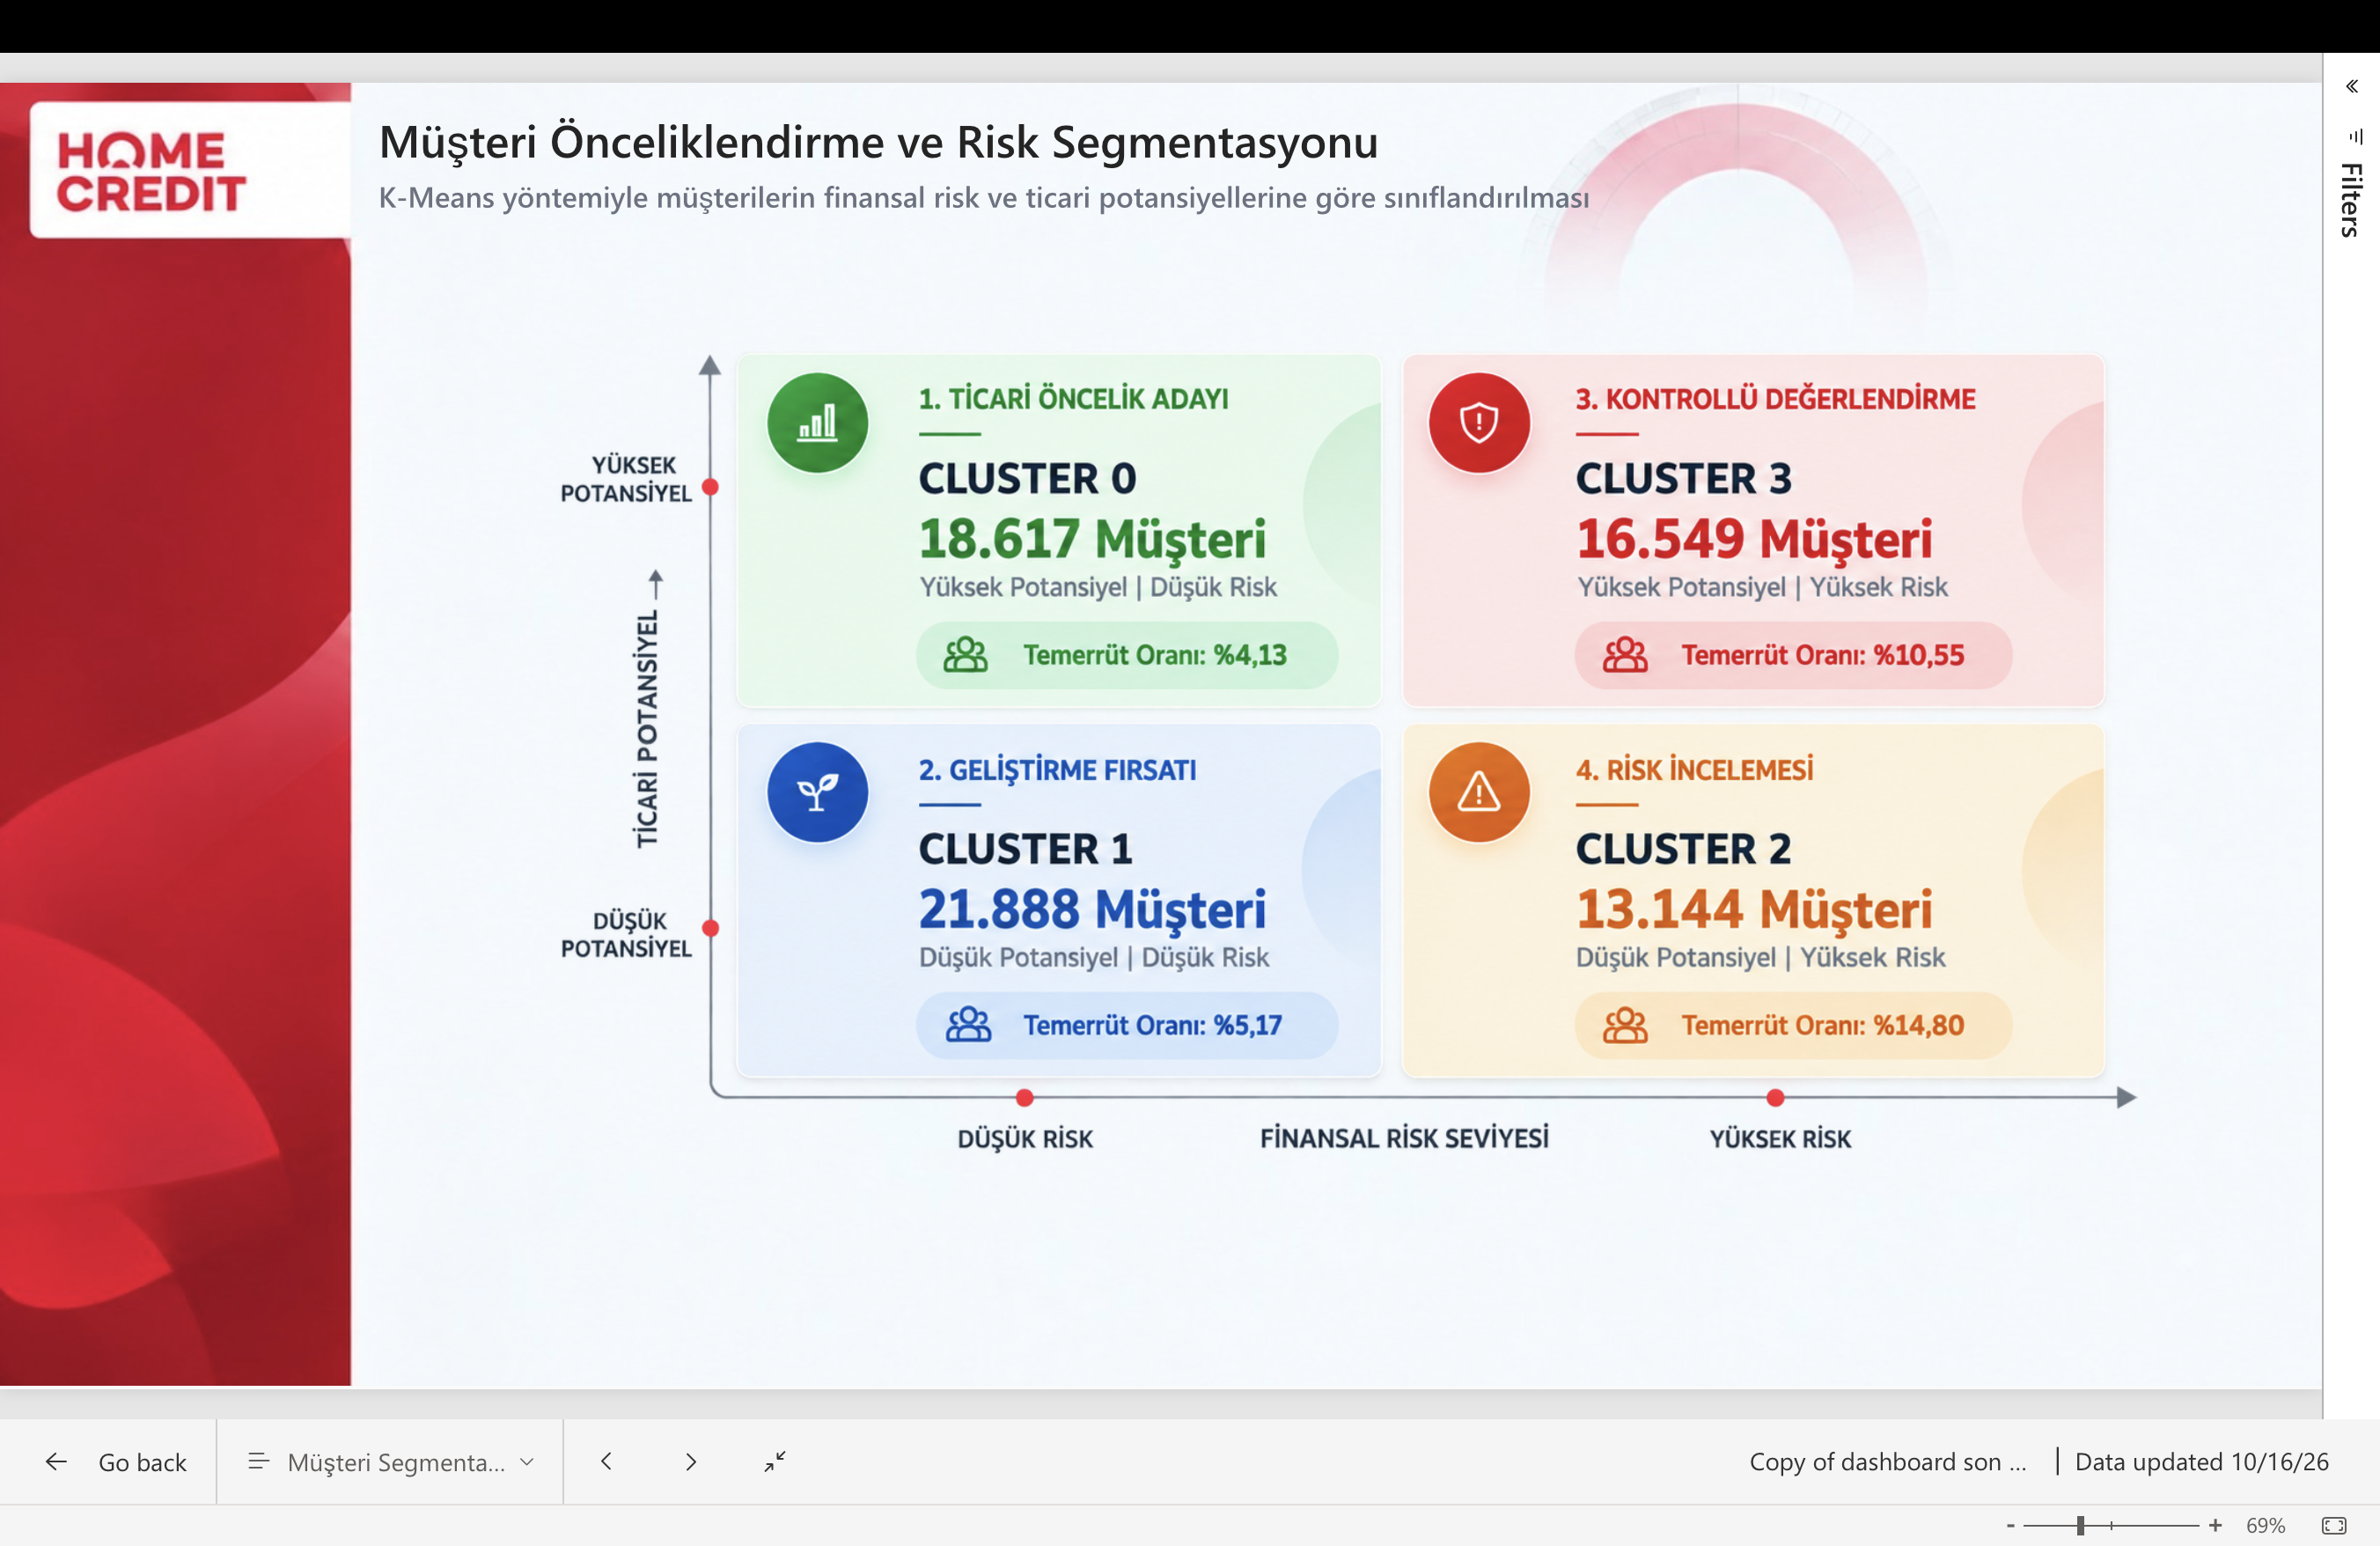

Layout of this report page (visuals, bound fields, positions):
{"tool":"powerbi","page":{"name":"Müşteri Segmentasyonu","canvas":[1920,1080],"ordinal":4},"visuals":[{"type":"image","box":[290,0,1630,1080],"z":0},{"type":"textbox","box":[312.9,21.4,877.1,71.4],"z":1},{"type":"textbox","box":[312.9,77.1,1274.5,51],"z":2}]}

Visuals, with their boxes on the page's 1920x1080 design canvas (x1, y1, x2, y2). These are canvas units, not pixel positions in the 2380x1546 screenshot, which may show the page scaled, cropped or inside an application window:
image: <region>290, 0, 1920, 1080</region>
textbox: <region>313, 21, 1190, 93</region>
textbox: <region>313, 77, 1587, 128</region>
